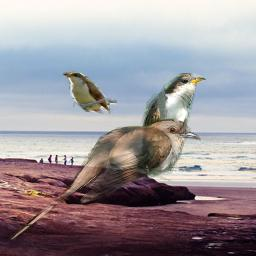Cuckoo: (10, 118, 201, 241), (137, 73, 206, 169), (61, 68, 117, 114)
